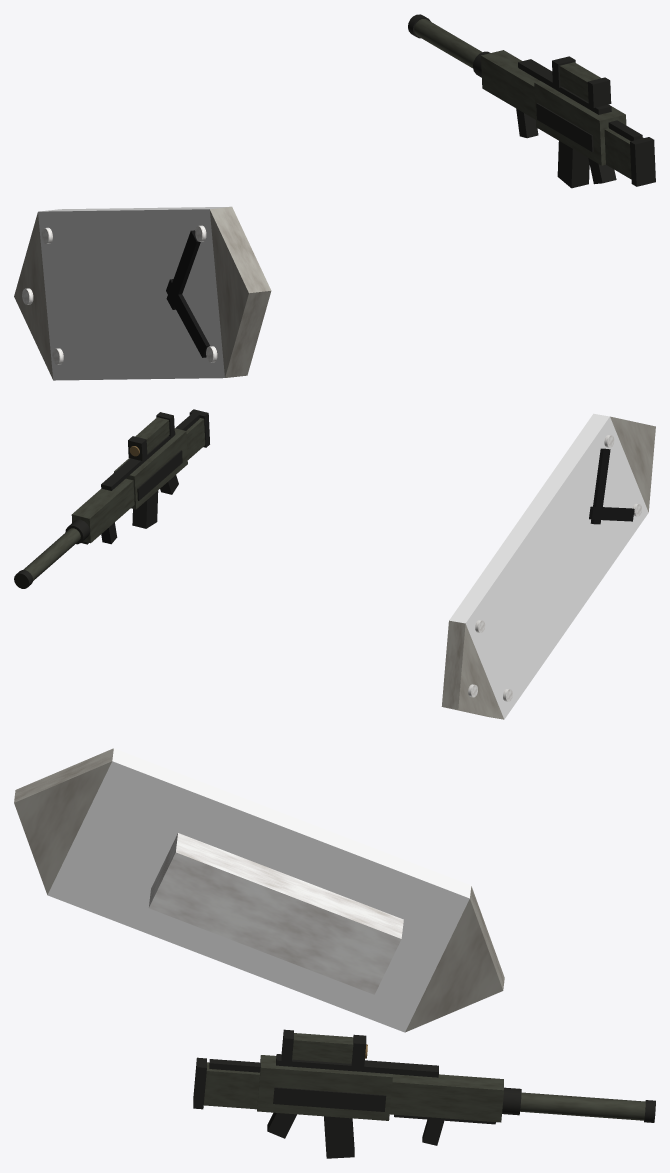
The model's file is weapons.glb.
3 renders of one model, top to bottom at view 1: azimuth 30°, elevation 25°; view 2: azimuth 150°, elevation 25°; view 3: azimuth 270°, elevation 25°, orthographic. The views are drawn at different scales.
Visible parts, largest first — view 1: ShieldBody, ShieldBottom, Receiver, ShieldTop, Handguard, Barrel, StockPad, Magazine, ReceiverSide, Stock, Chevron0, Chevron1 (+3 smaller); view 2: ShieldBody, ShieldTop, ShieldBottom, Handguard, Receiver, Barrel, Chevron0, Rail, Scope, ReceiverSide, Magazine, Stock (+1 smaller); view 3: ShieldBody, ShieldFrame, ShieldBottom, ShieldTop, Handguard, Receiver, Barrel, Stock, ReceiverSide, Scope, Rail, Magazine (+1 smaller).
Part boxes in pixels (x1=…): ShieldBody: x1=38, y1=206, x2=231, y2=380; ShieldBottom: x1=209, y1=207, x2=271, y2=377; Receiver: x1=534, y1=81, x2=626, y2=165; ShieldTop: x1=14, y1=212, x2=53, y2=379; Handguard: x1=481, y1=50, x2=539, y2=119; Barrel: x1=414, y1=19, x2=482, y2=68; StockPad: x1=630, y1=137, x2=655, y2=186; Magazine: x1=557, y1=141, x2=589, y2=188; ReceiverSide: x1=536, y1=103, x2=593, y2=151; Stock: x1=604, y1=128, x2=643, y2=179; Chevron0: x1=166, y1=230, x2=200, y2=309; Chevron1: x1=166, y1=279, x2=209, y2=357; ShieldBody: x1=449, y1=413, x2=648, y2=719; ShieldTop: x1=441, y1=620, x2=503, y2=719; ShieldBottom: x1=610, y1=416, x2=655, y2=511; Handguard: x1=71, y1=478, x2=134, y2=543; Receiver: x1=114, y1=428, x2=187, y2=509; Barrel: x1=23, y1=528, x2=80, y2=580; Chevron0: x1=590, y1=448, x2=610, y2=524; Rail: x1=101, y1=431, x2=175, y2=490; Scope: x1=135, y1=417, x2=169, y2=453; ReceiverSide: x1=137, y1=450, x2=182, y2=500; Magazine: x1=132, y1=490, x2=158, y2=528; Stock: x1=186, y1=418, x2=205, y2=459; ShieldBody: x1=47, y1=748, x2=471, y2=1032; ShieldFrame: x1=149, y1=833, x2=403, y2=994; ShieldBottom: x1=14, y1=748, x2=113, y2=894; ShieldTop: x1=405, y1=886, x2=504, y2=1032; Handguard: x1=389, y1=1074, x2=503, y2=1122; Receiver: x1=257, y1=1055, x2=392, y2=1120; Barrel: x1=520, y1=1092, x2=645, y2=1120; Stock: x1=203, y1=1062, x2=259, y2=1109; ReceiverSide: x1=273, y1=1087, x2=386, y2=1111; Scope: x1=292, y1=1033, x2=353, y2=1063; Rail: x1=276, y1=1054, x2=438, y2=1077; Magazine: x1=324, y1=1116, x2=354, y2=1158.
Bounding box in the file's own units: 6.99 × 3.63 × 7.56.
7 materials, 3 textured.
